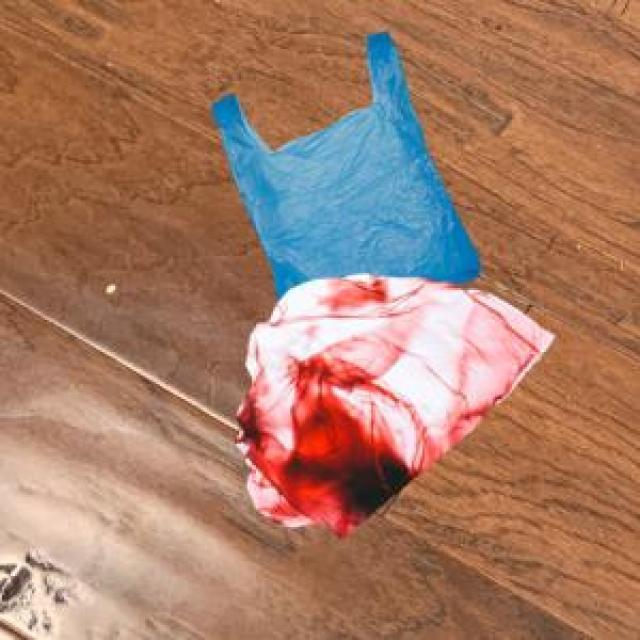waste: (212, 34, 554, 534)
